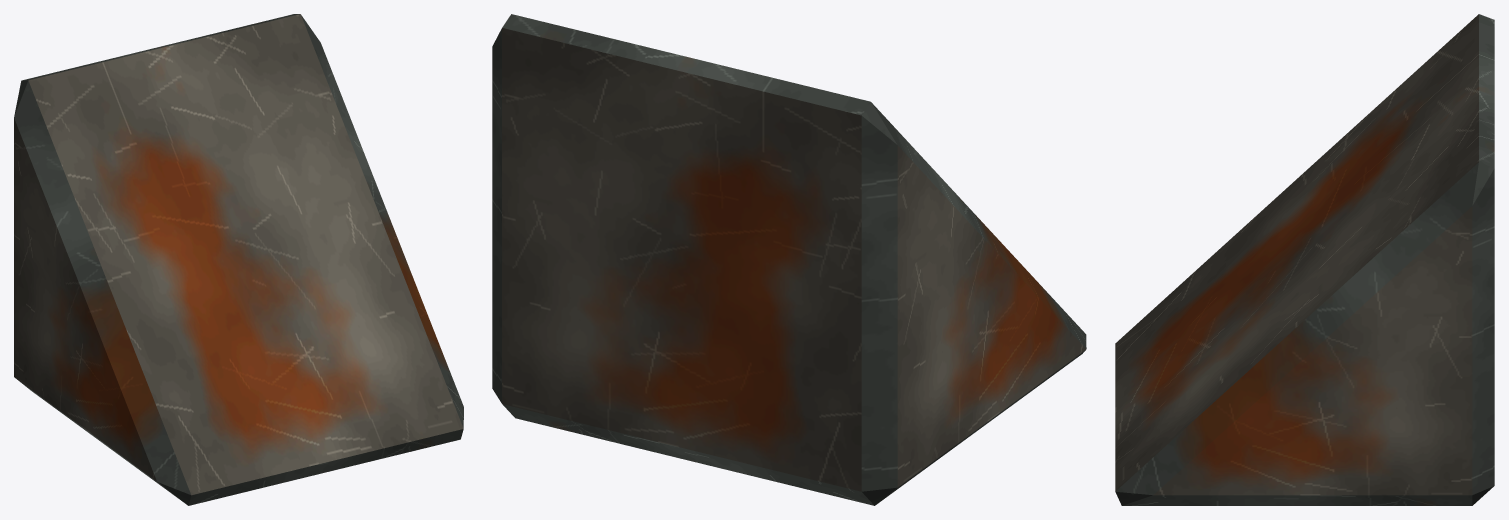
File: R4B_Wedge_LOD1.glb
3 renders of one model, left to right at view 1: azimuth 30°, elevation 25°; view 2: azimuth 150°, elevation 25°; view 3: azimuth 270°, elevation 25°, orthographic. The views are drawn at different scales.
Parts seen in each view (by area): view 1: R4B_Wedge_LOD1; view 2: R4B_Wedge_LOD1; view 3: R4B_Wedge_LOD1.
Boxes of the visible parts, box(x1,y1,x2,y2) form: R4B_Wedge_LOD1: box(14, 14, 463, 505); R4B_Wedge_LOD1: box(492, 14, 1086, 505); R4B_Wedge_LOD1: box(1115, 14, 1494, 505).
Bounding box in the file's own units: 0.52 × 0.4993 × 0.4993.
2 materials, 2 textured.
